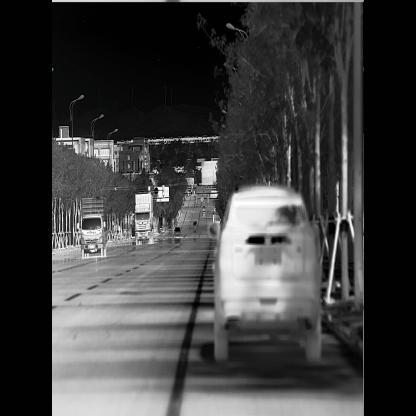car: (209, 185, 322, 363), (80, 197, 106, 256), (134, 193, 154, 245), (174, 227, 181, 238), (188, 186, 192, 196), (193, 220, 198, 226), (193, 184, 196, 193), (202, 211, 205, 216), (203, 205, 206, 210)
